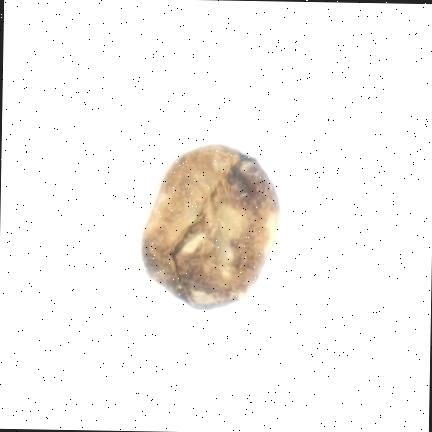partial-black: (142, 144, 278, 307)
